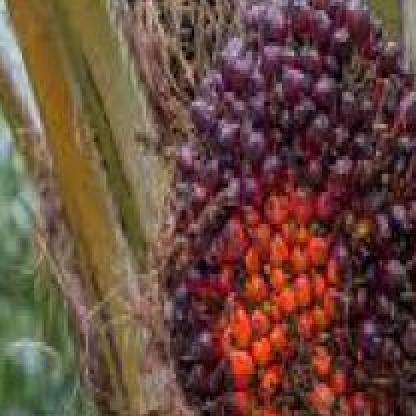underripe: (158, 0, 416, 416)
